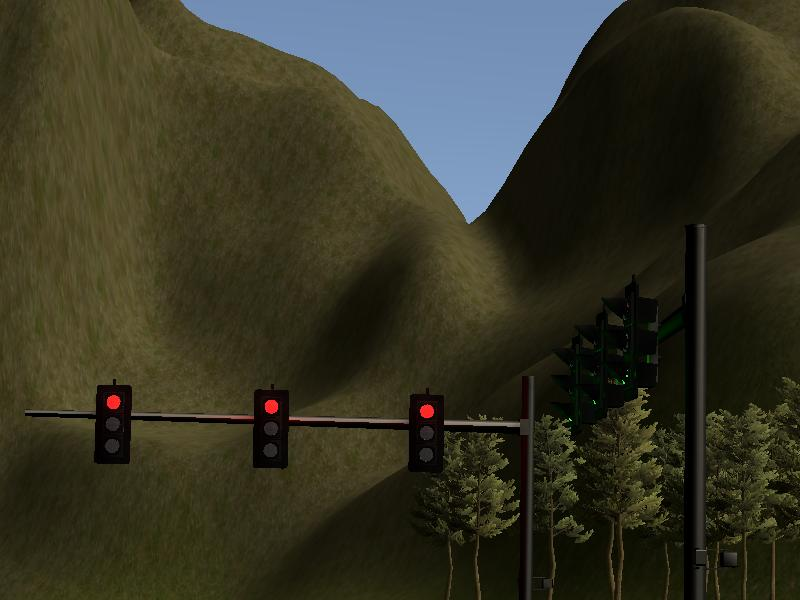red: (252, 387, 291, 471), (94, 383, 132, 466), (409, 393, 444, 472)
